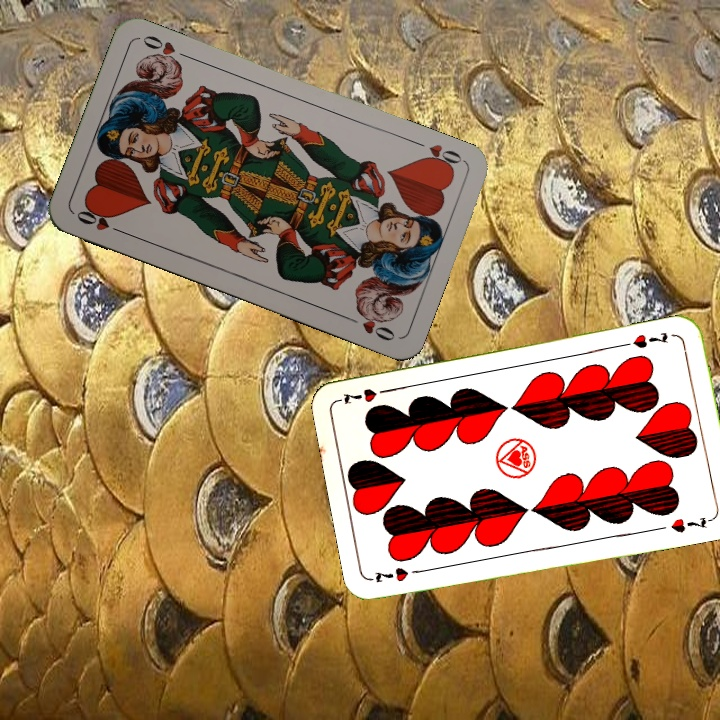H7: (369, 563, 428, 586), (629, 328, 671, 351)
HO: (409, 136, 466, 174), (72, 203, 128, 237)
